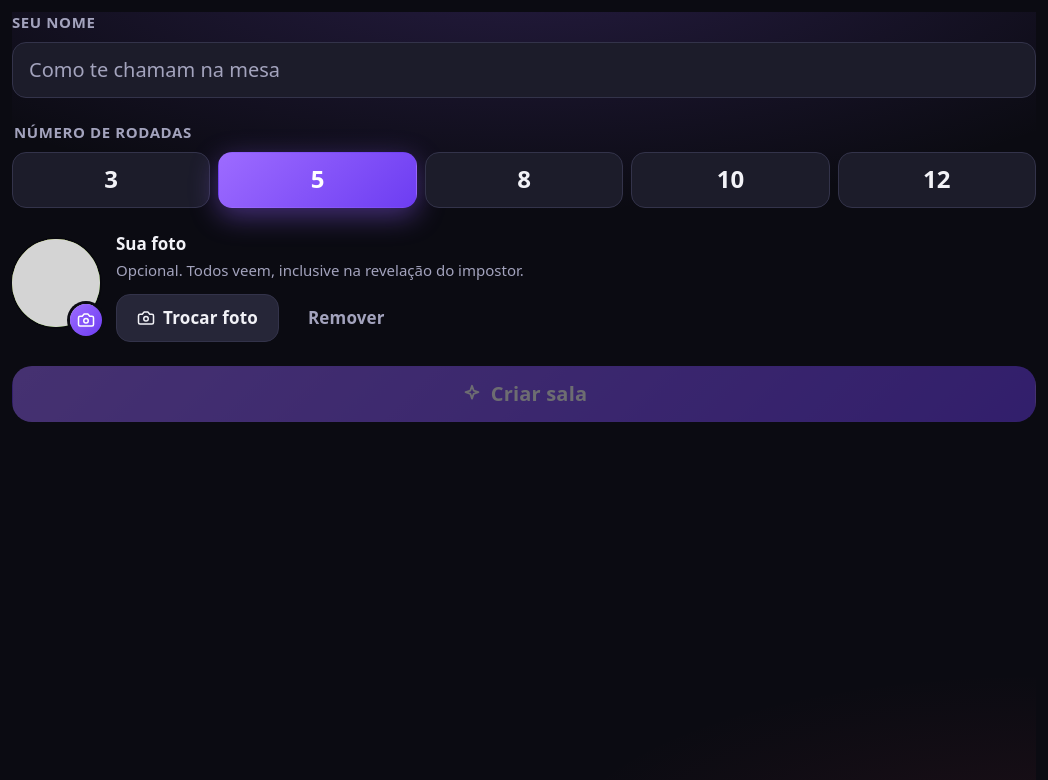
photo › can drop the picked photo
Earlier steps of the test are not shown.
Click the button "Remover" at (346, 318), box [287,294,406,342]
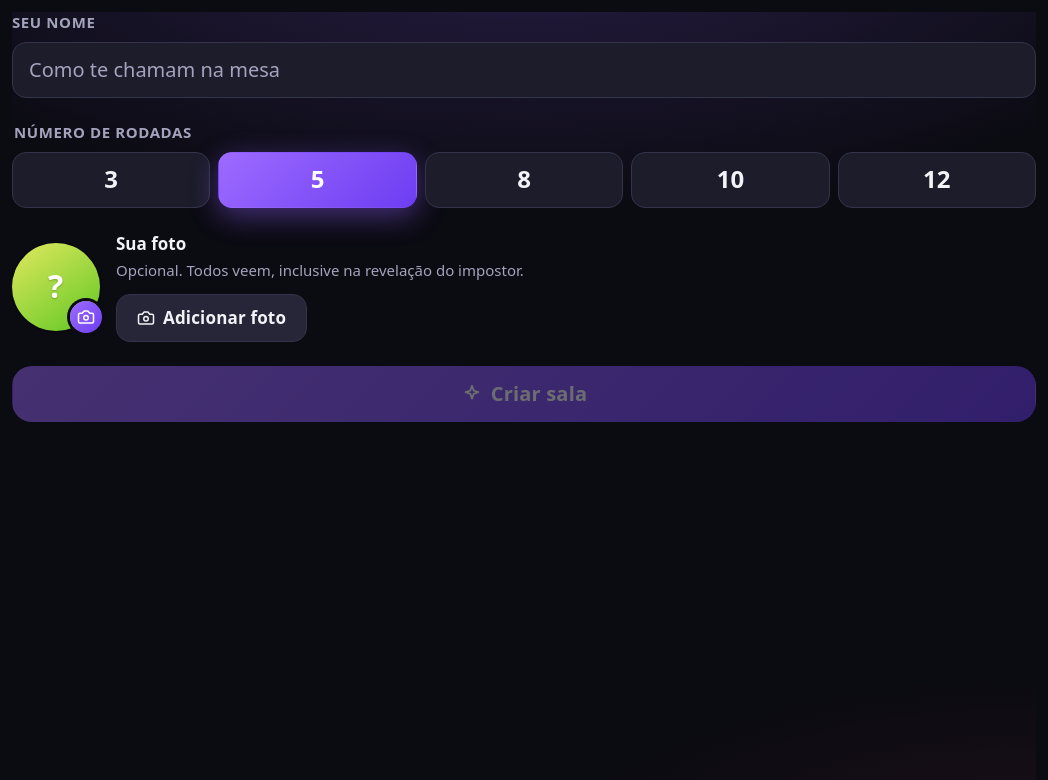
Expected: the button "Adicionar foto" is shown, [116,294,307,342]
